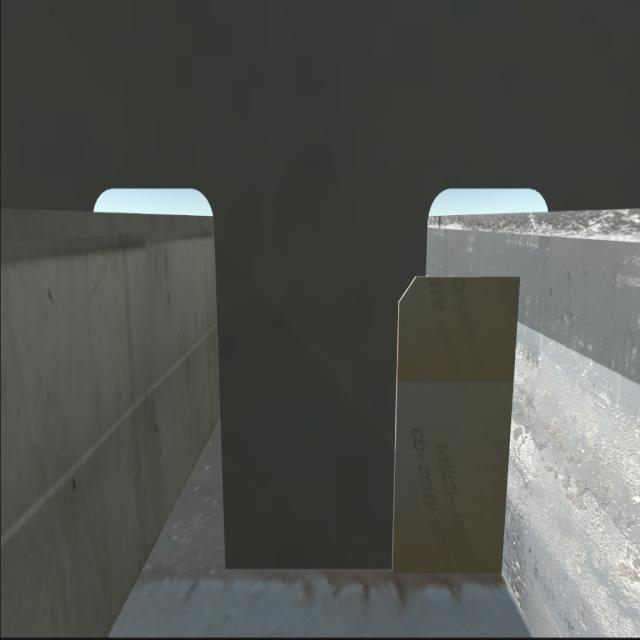fillet_yong_jeop_jang: (217, 548, 521, 588)
longi_yong_jeop_jang: (501, 268, 516, 580)
plate_CP03: (391, 265, 507, 571)
